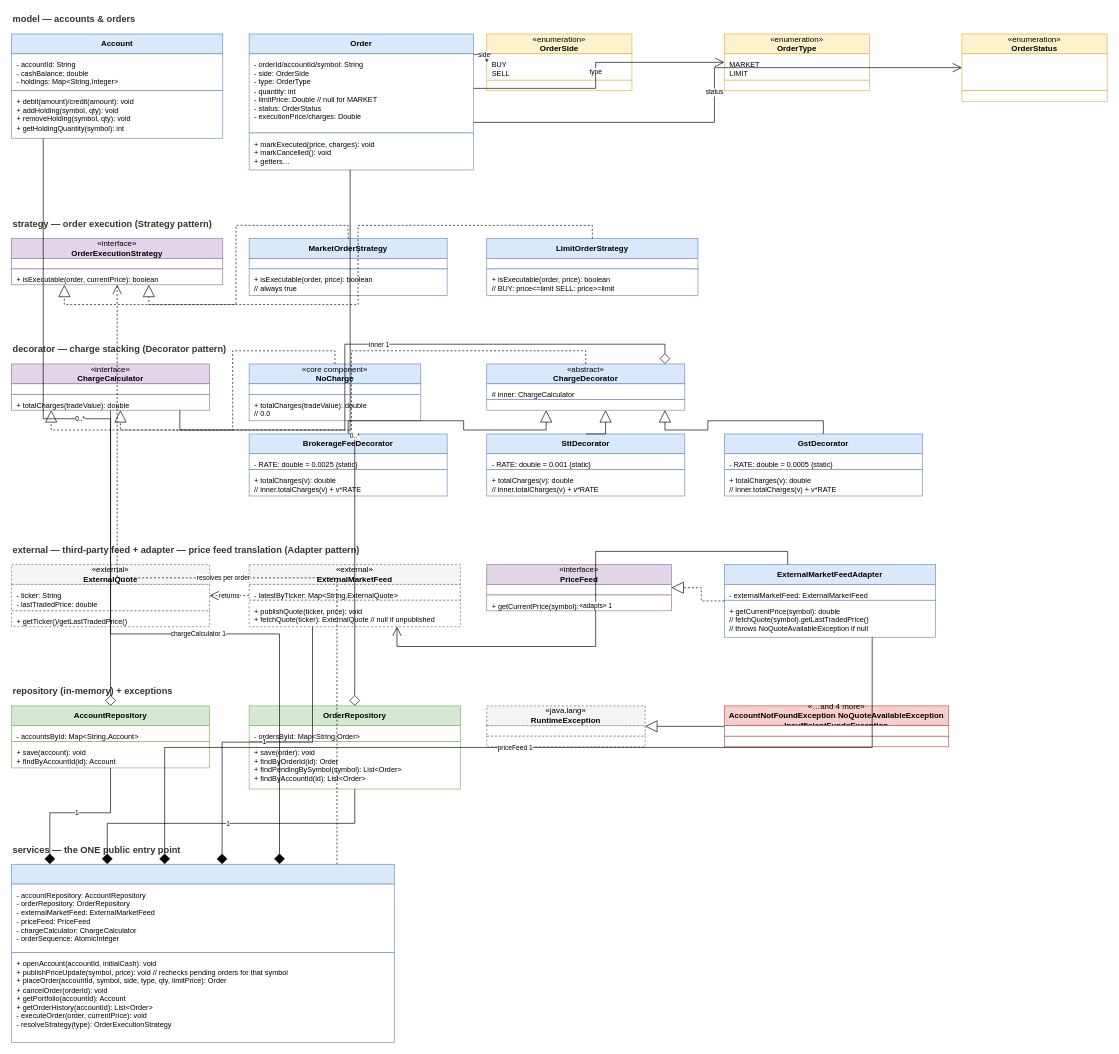
The diagram is 1119 pixels wide and 1054 high, and some of its shapes have lost their labels. Here are the shapes that lost their labels. From the top down, the centre of each, then its label:
At [1034,72]: "PENDING EXECUTED CANCELLED".
At [202,874]: "StockBrokerService".
